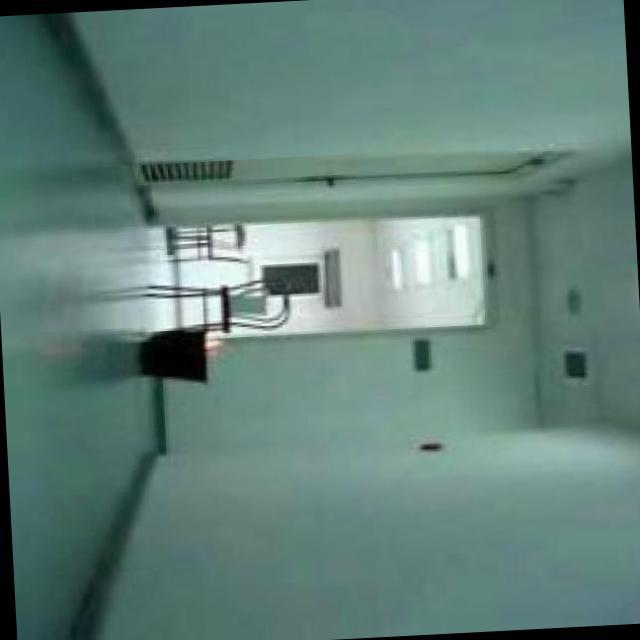Fire: (206, 332, 224, 355)
